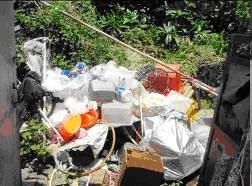box: (116, 146, 165, 186), (101, 101, 135, 127), (89, 79, 115, 99)
plastic_bag: (152, 117, 205, 181), (43, 70, 87, 113), (143, 92, 193, 116)
